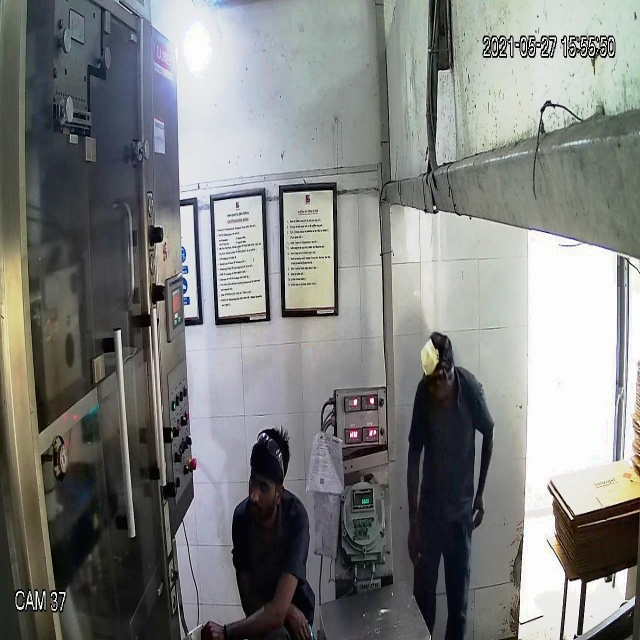Sin_gafas: (243, 468, 283, 498)
